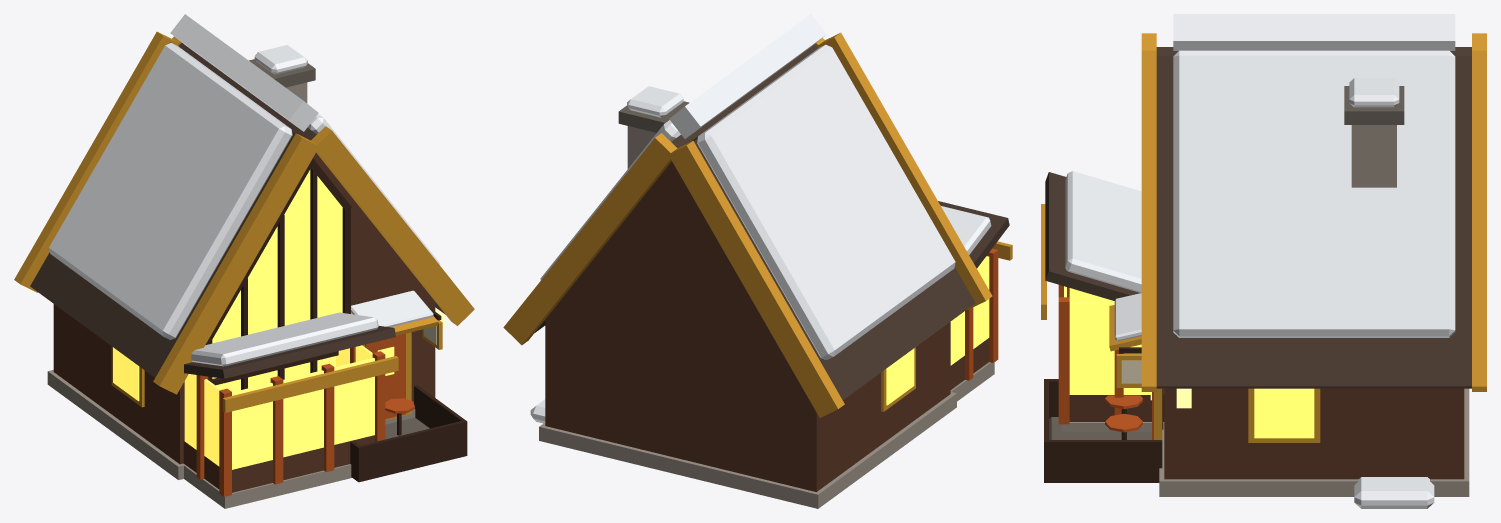
File: cafe-chalet70s.glb
3 renders of one model, left to right at view 1: azimuth 30°, elevation 25°; view 2: azimuth 150°, elevation 25°; view 3: azimuth 270°, elevation 25°, orthographic. The views are drawn at different scales.
Parts seen in each view (by area): view 1: cafe-chalet70s; view 2: cafe-chalet70s; view 3: cafe-chalet70s.
Boxes of the visible parts, bbox=[...] form: cafe-chalet70s: bbox=[14, 14, 474, 508]; cafe-chalet70s: bbox=[503, 14, 1012, 508]; cafe-chalet70s: bbox=[1041, 14, 1486, 508].
Bounding box in the file's own units: 8.64 × 8.97 × 8.91.
